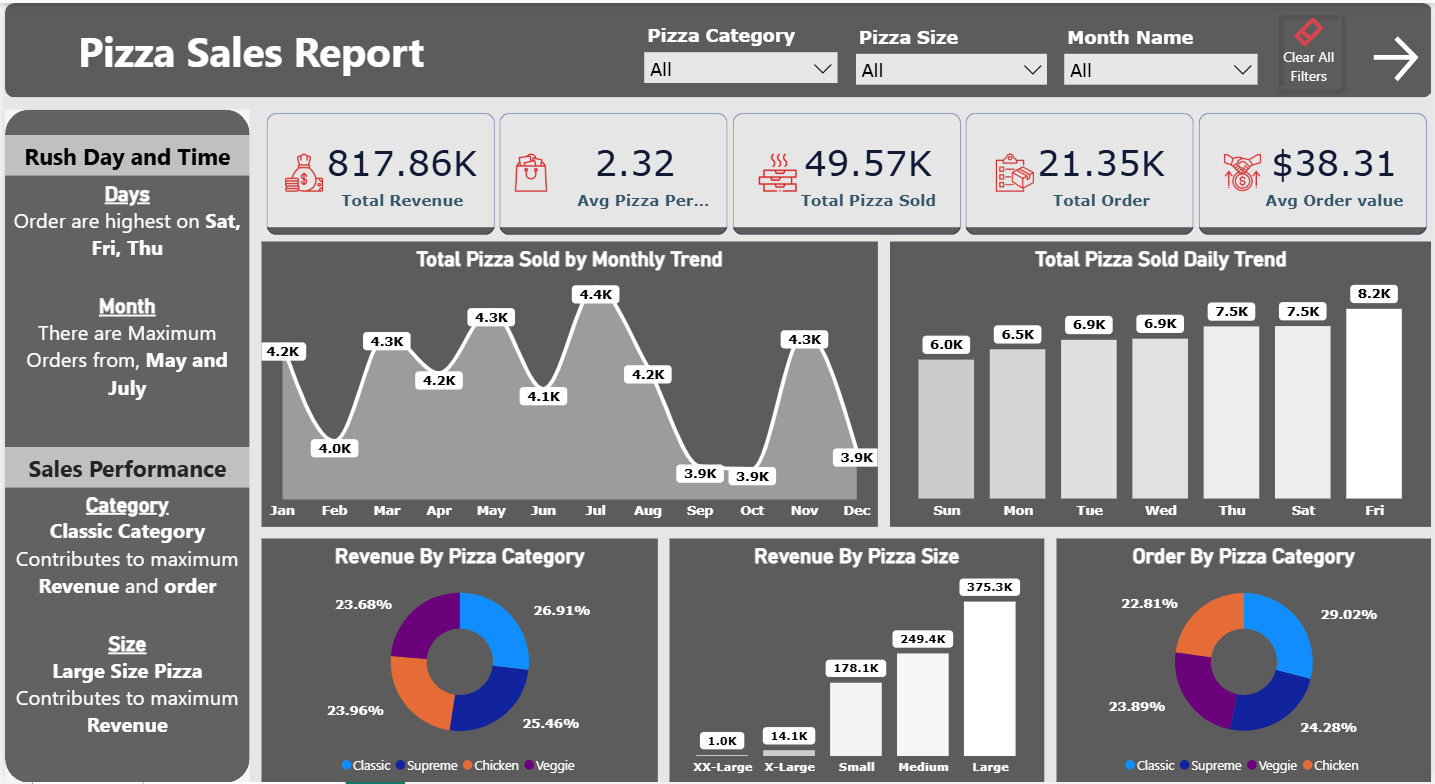

The page's visual inventory and layout, read from the dashboard file:
{"tool":"powerbi","page":{"name":"Home","canvas":[1500,820],"ordinal":0},"visuals":[{"type":"shape","box":[0,0,1500.4,99.4],"z":0},{"type":"shape","box":[0,111.8,257.3,708],"z":1000},{"type":"cardVisual","fields":{"Data":["_Measure.Total Revenue","_Measure.Avg Pizza Per Order","_Measure.Total Pizza Sold","_Measure.Total Order","_Measure.Avg Order value"]},"box":[269.9,111,1230.1,138.4],"z":2000},{"type":"textbox","box":[65.6,15.8,384.8,67.9],"z":3000},{"type":"lineChart","title":"Total Pizza Sold by Monthly Trend","fields":{"Category":["DateTable.Month Name"],"Y":["_Measure.Total Pizza Sold"]},"box":[269.7,250.2,647.7,299.9],"z":4000},{"type":"columnChart","title":"Total Pizza Sold Daily Trend","fields":{"Y":["_Measure.Total Pizza Sold"],"Category":["DateTable.Day Name"]},"box":[929.8,250.2,569.6,299.9],"z":5000},{"type":"donutChart","title":"Revenue By Pizza Category","fields":{"Category":["pizza_sales.pizza_category"],"Y":["_Measure.Total Revenue"]},"box":[269.7,562.5,417,257.3],"z":6000},{"type":"columnChart","title":"Revenue By Pizza Size","fields":{"Category":["pizza_sales.pizza_size"],"Y":["_Measure.Total Revenue"]},"box":[699.1,562.5,393.9,257.3],"z":7000},{"type":"donutChart","title":"Order By Pizza Category","fields":{"Category":["pizza_sales.pizza_category"],"Y":["_Measure.Total Order"]},"box":[1105.5,562.5,393.9,257.3],"z":8000},{"type":"textbox","box":[0,138.4,257.3,42.6],"z":9000},{"type":"textbox","box":[0,182.8,257.3,283.9],"z":10000},{"type":"textbox","box":[0,466.7,257.3,42.6],"z":11000},{"type":"textbox","box":[0,509.3,257.3,310.5],"z":12000},{"type":"slicer","fields":{"Values":["pizza_sales.pizza_category"]},"box":[661.7,17.8,222.3,81.8],"z":13000},{"type":"slicer","fields":{"Values":["pizza_sales.pizza_size"]},"box":[884,19.6,220.6,81.8],"z":14000},{"type":"slicer","fields":{"Values":["DateTable.Month Name"]},"box":[1104.6,19.6,222.3,81.8],"z":15000},{"type":"actionButton","box":[1432.4,27.9,66.3,61.1],"z":16000},{"type":"actionButton","box":[1327.7,1.7,85.5,97.7],"z":17000}]}

Visuals, with their boxes in screenshot pixels (x1, y1, x2, y2), scaled from the page's 1500x820 canvas onto the 1435x784 screenshot:
shape: <region>0, 0, 1434, 95</region>
shape: <region>0, 107, 246, 783</region>
cardVisual - _Measure.Total Revenue x _Measure.Avg Pizza Per Order: <region>258, 106, 1434, 238</region>
textbox: <region>63, 15, 431, 80</region>
"Total Pizza Sold by Monthly Trend" lineChart: <region>258, 239, 878, 526</region>
"Total Pizza Sold Daily Trend" columnChart: <region>890, 239, 1434, 526</region>
"Revenue By Pizza Category" donutChart: <region>258, 538, 657, 783</region>
"Revenue By Pizza Size" columnChart: <region>669, 538, 1046, 783</region>
"Order By Pizza Category" donutChart: <region>1058, 538, 1434, 783</region>
textbox: <region>0, 132, 246, 173</region>
textbox: <region>0, 175, 246, 446</region>
textbox: <region>0, 446, 246, 487</region>
textbox: <region>0, 487, 246, 783</region>
slicer - pizza_sales.pizza_category: <region>633, 17, 846, 95</region>
slicer - pizza_sales.pizza_size: <region>846, 19, 1057, 97</region>
slicer - DateTable.Month Name: <region>1057, 19, 1269, 97</region>
actionButton: <region>1370, 27, 1434, 85</region>
actionButton: <region>1270, 2, 1352, 95</region>
